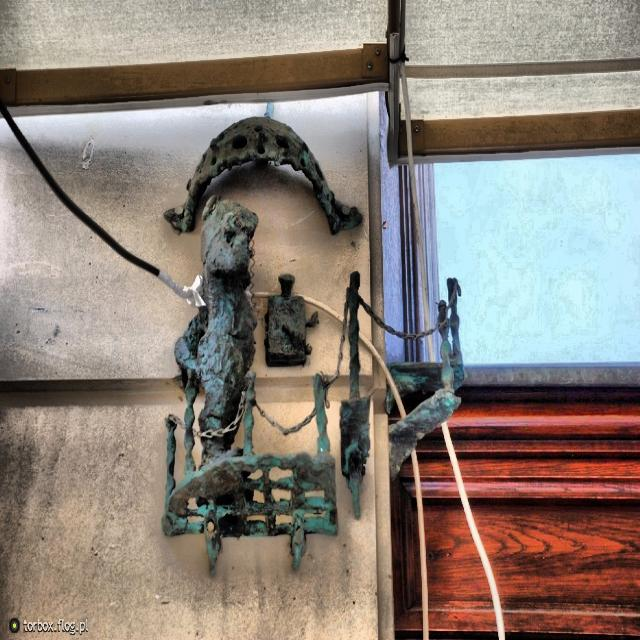Dryndek: (161, 196, 338, 574)
